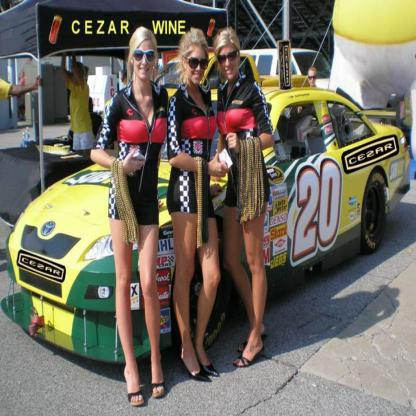face: (135, 39, 156, 80), (187, 48, 209, 85), (218, 46, 239, 81), (309, 72, 317, 87), (72, 68, 79, 84), (122, 75, 126, 84)
